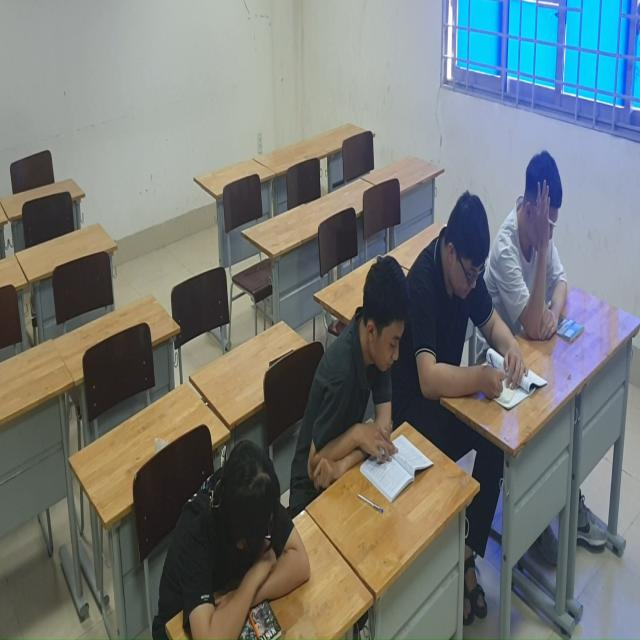raise_hand: (495, 140, 592, 350)
read: (307, 251, 438, 516), (417, 184, 529, 431)
sleep: (160, 426, 310, 640)
